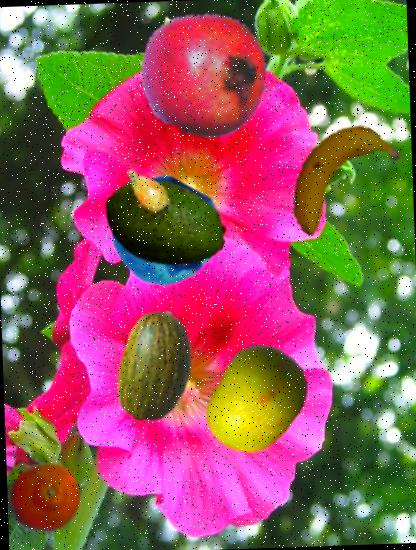Avocado: (100, 160, 230, 290)
Banana: (275, 118, 402, 245)
Cactus: (118, 162, 176, 220)
Huckleberry: (110, 176, 221, 288)
Melon: (97, 308, 215, 426)
Pomegranate: (137, 8, 270, 141)
Pomelo: (198, 340, 315, 458)
Tangelo: (6, 458, 82, 534)
